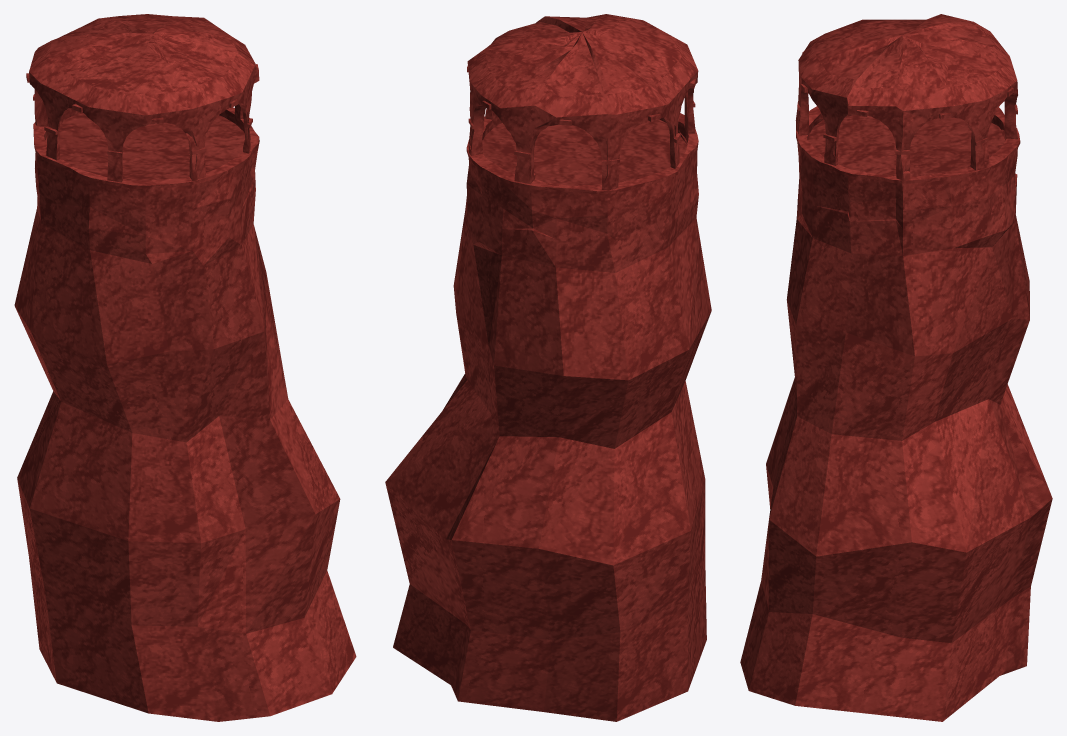
File: tower_arches_repaired.glb
3 renders of one model, left to right at view 1: azimuth 30°, elevation 25°; view 2: azimuth 150°, elevation 25°; view 3: azimuth 270°, elevation 25°, orthographic. The views are drawn at different scales.
Parts seen in each view (by area): view 1: TowerRock; view 2: TowerRock; view 3: TowerRock.
Part boxes in pixels (x1=…): TowerRock: x1=14, y1=14, x2=356, y2=721; TowerRock: x1=385, y1=14, x2=711, y2=721; TowerRock: x1=740, y1=14, x2=1052, y2=721.
Size of what is drawn, in the model's own units: 22.05 by 47.46 by 21.98.
Materials: 1 (1 with a texture image).
